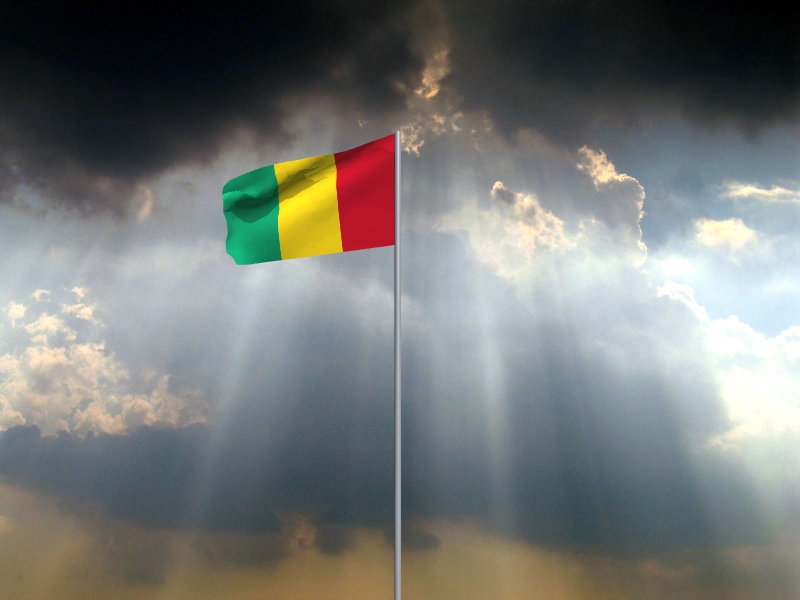gn: (221, 134, 395, 267)
